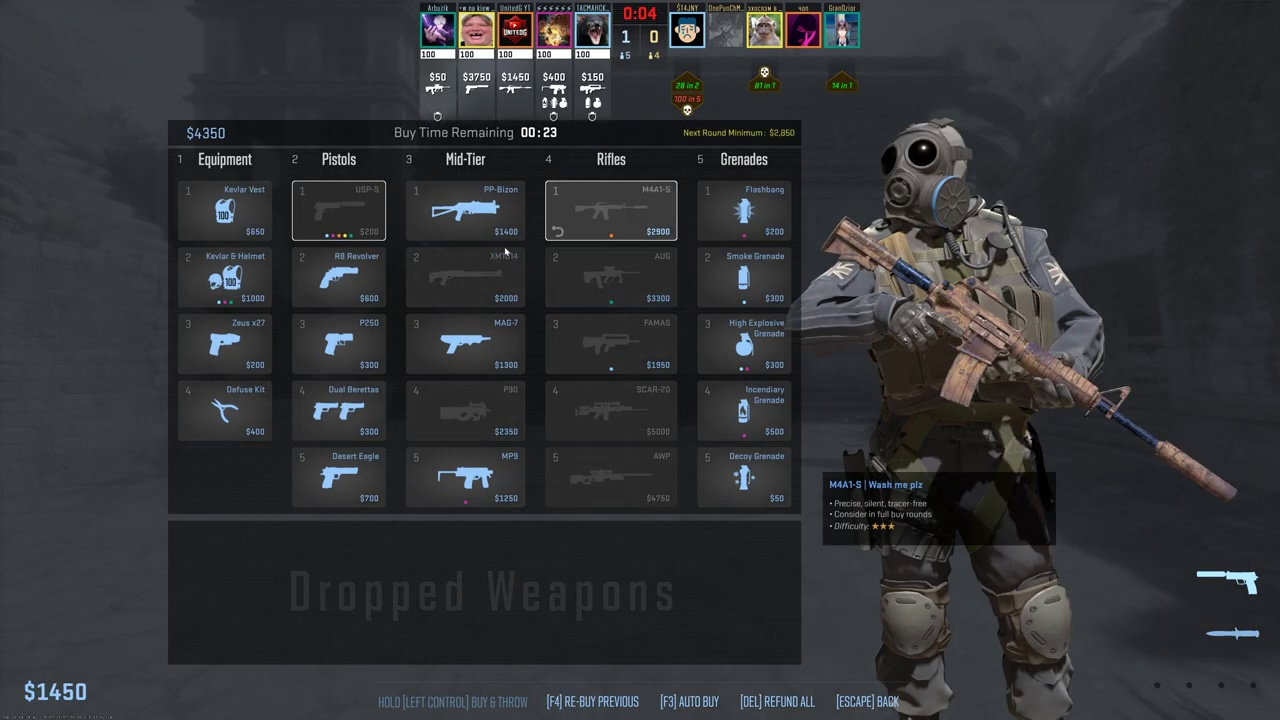CT: (850, 122, 1078, 720)
